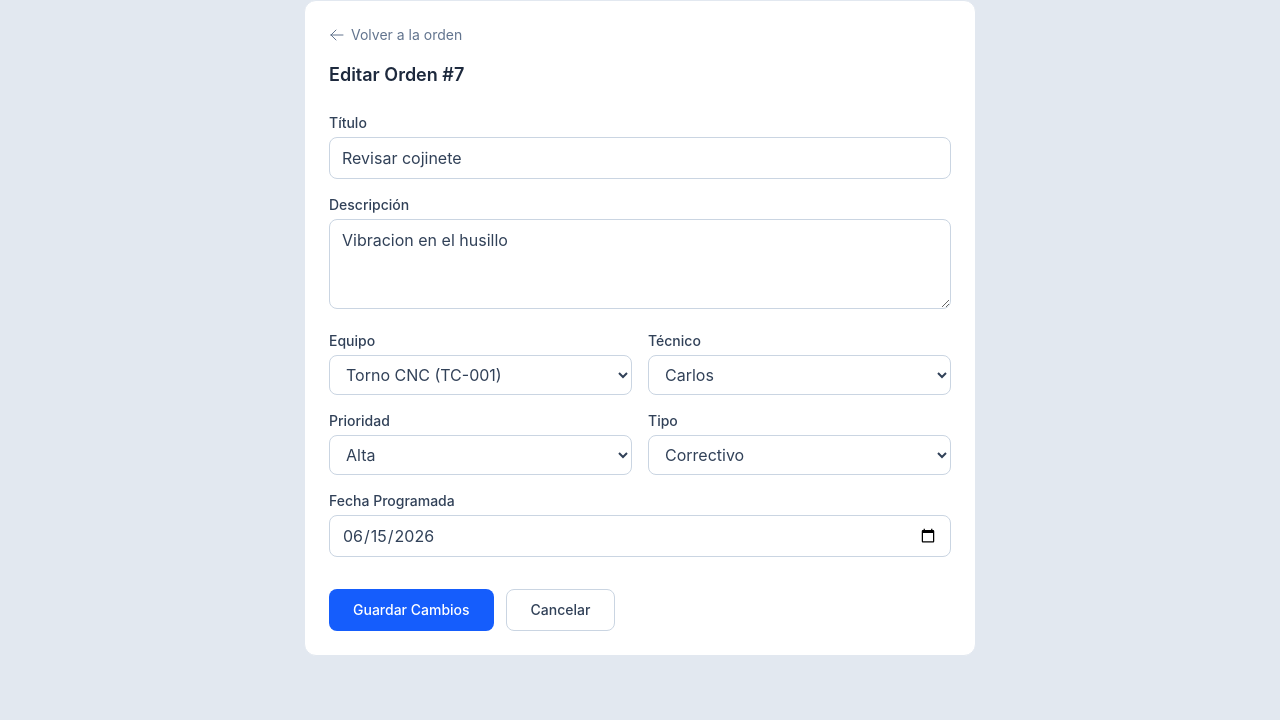
Test: WorkOrderEdit page › avisa si se guardo el cambio pero no quedo en el historial
Select "Urgente" in the dropdown labelled "Prioridad" at (480, 455), box [329, 435, 632, 475]
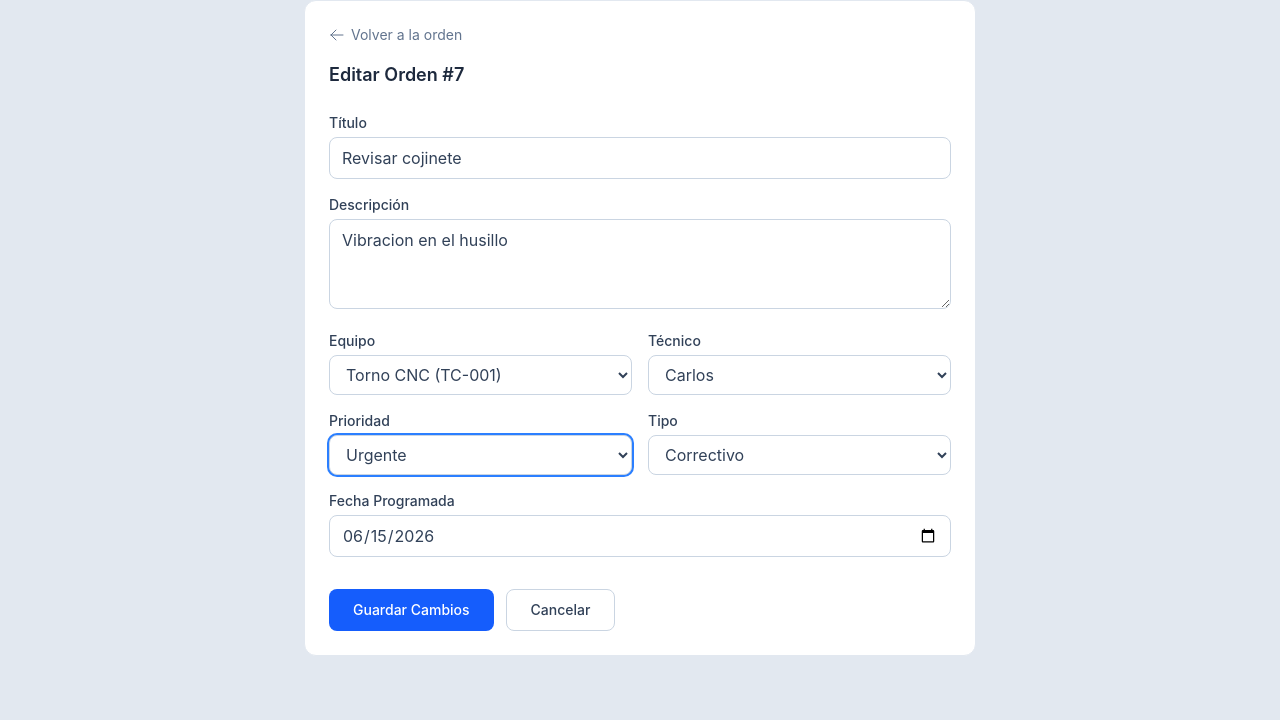
Click the button "Guardar Cambios" at (411, 610), box [329, 589, 494, 631]
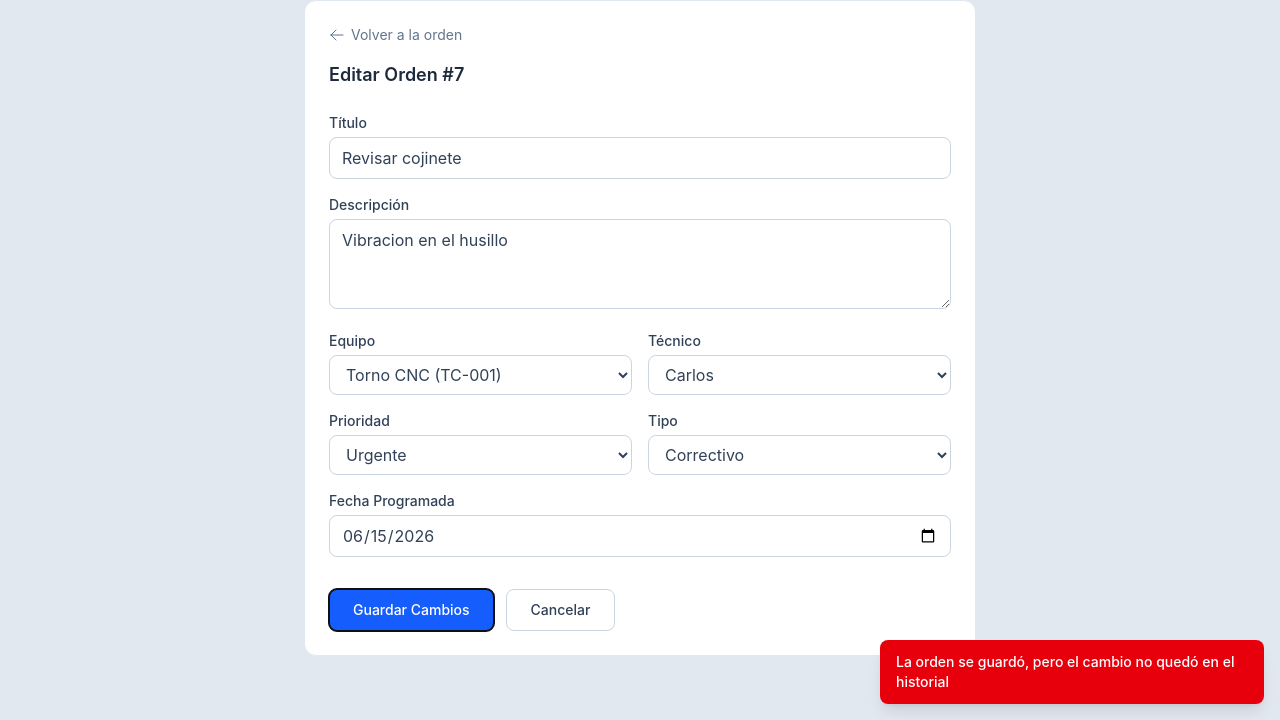
expect the text "La orden se guardó, pero el cambio no quedó en el historial" is shown: met, box [880, 640, 1264, 704]
